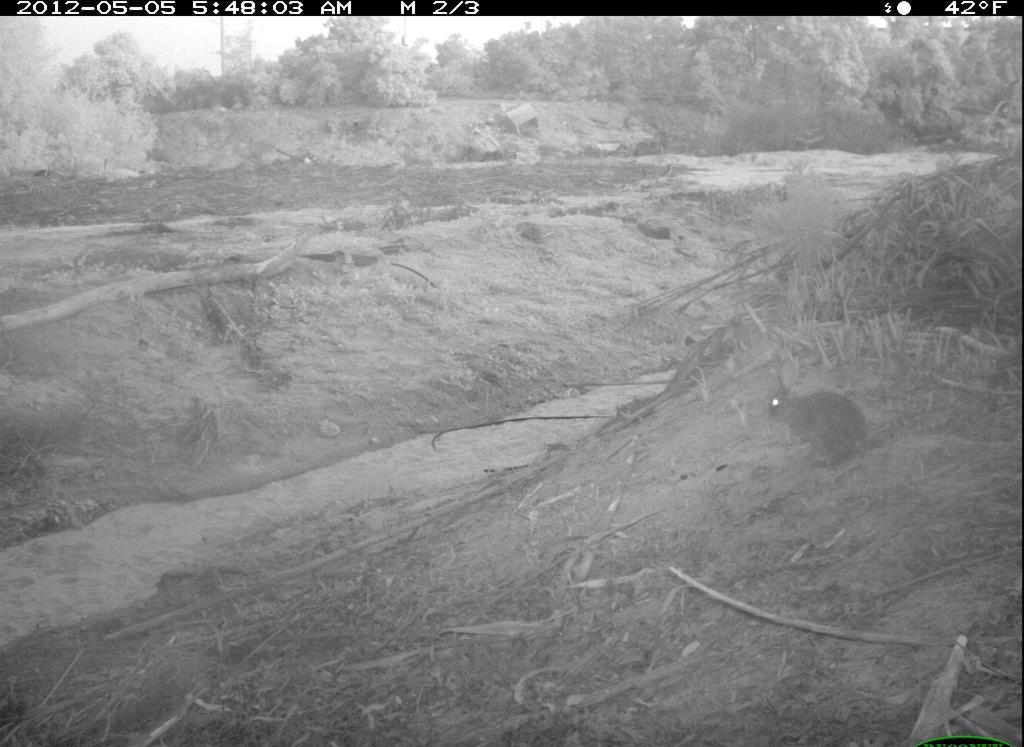rabbit: (731, 346, 879, 493)
